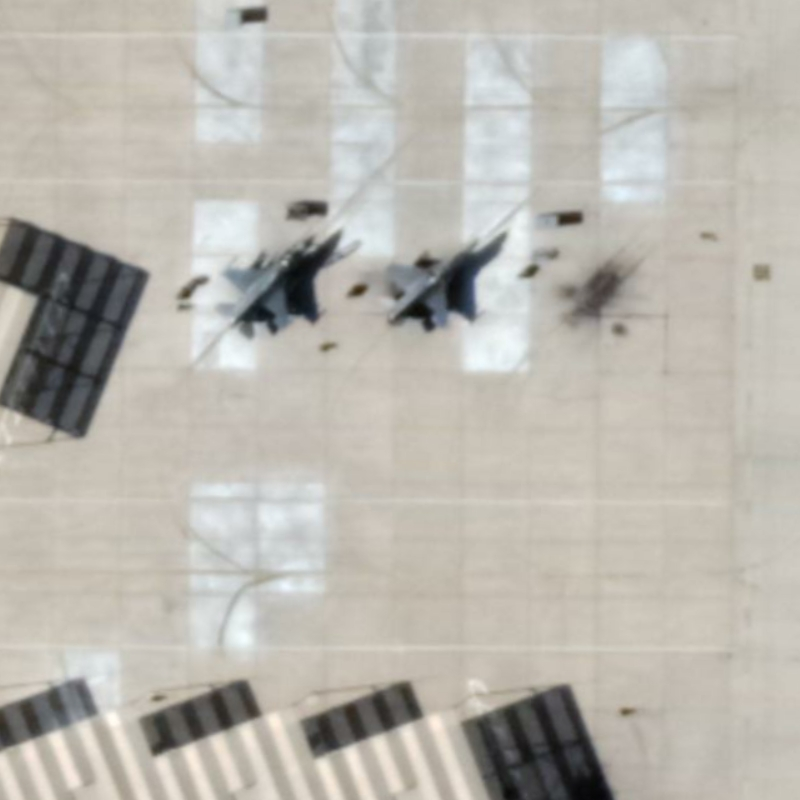A5: (209, 231, 327, 345), (369, 233, 490, 333)
